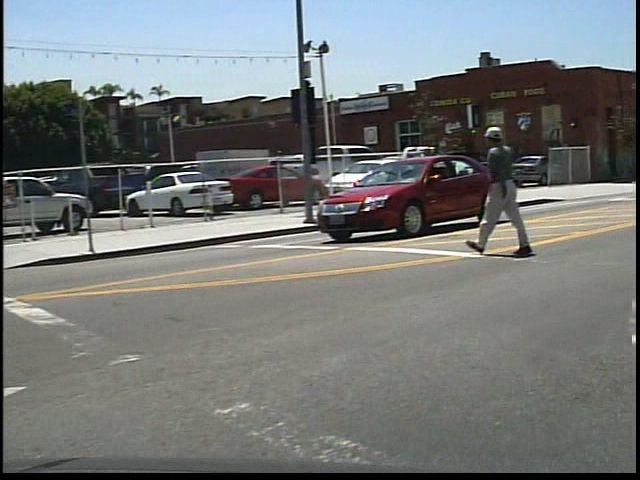person: (480, 115, 543, 265)
